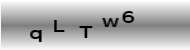6: (121, 10, 135, 23)
L: (52, 19, 65, 33)
T: (78, 24, 93, 38)
q: (27, 28, 42, 43)
w: (100, 16, 118, 29)
